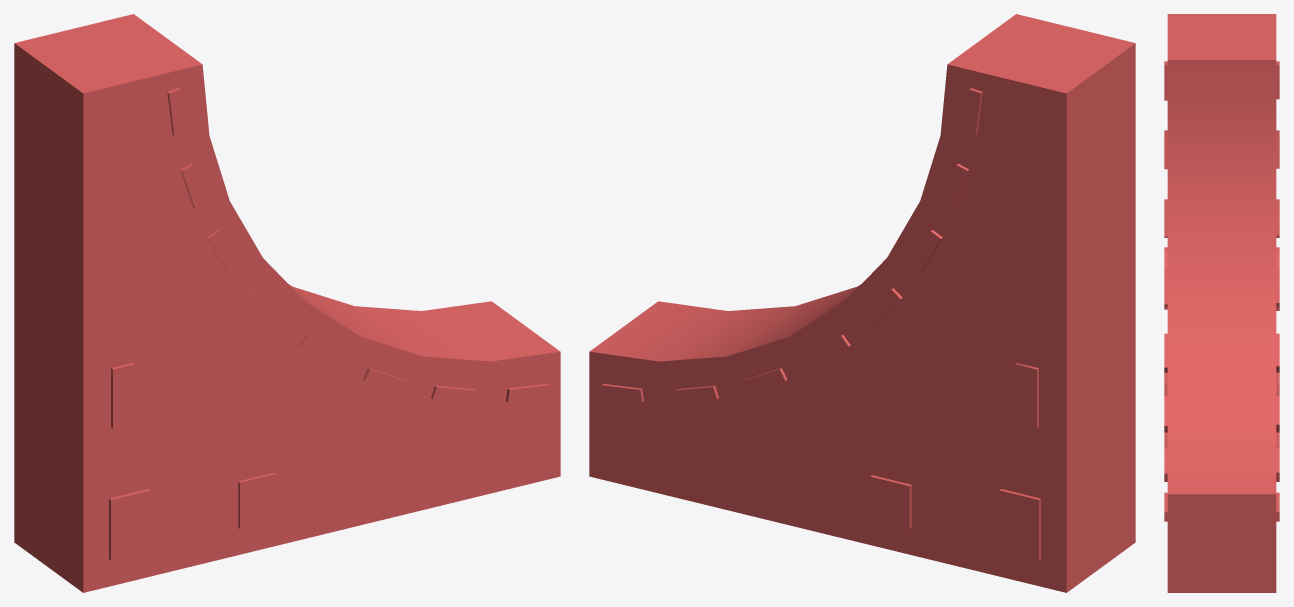
Rendered from Slope2Color.fbx.
The picture shows the model from 3 angles, left to right: view 1: azimuth 30°, elevation 25°; view 2: azimuth 150°, elevation 25°; view 3: azimuth 270°, elevation 25°; orthographic projection. The views are drawn at different scales.
Parts seen in each view (by area): view 1: polySurface488; view 2: polySurface488; view 3: polySurface488.
Part boxes in pixels (x1,y1,x2,y2): polySurface488: (14,14,560,592); polySurface488: (589,14,1135,592); polySurface488: (1164,14,1279,592).
Bounding box in the file's own units: 3.86 × 3.86 × 1.02.
